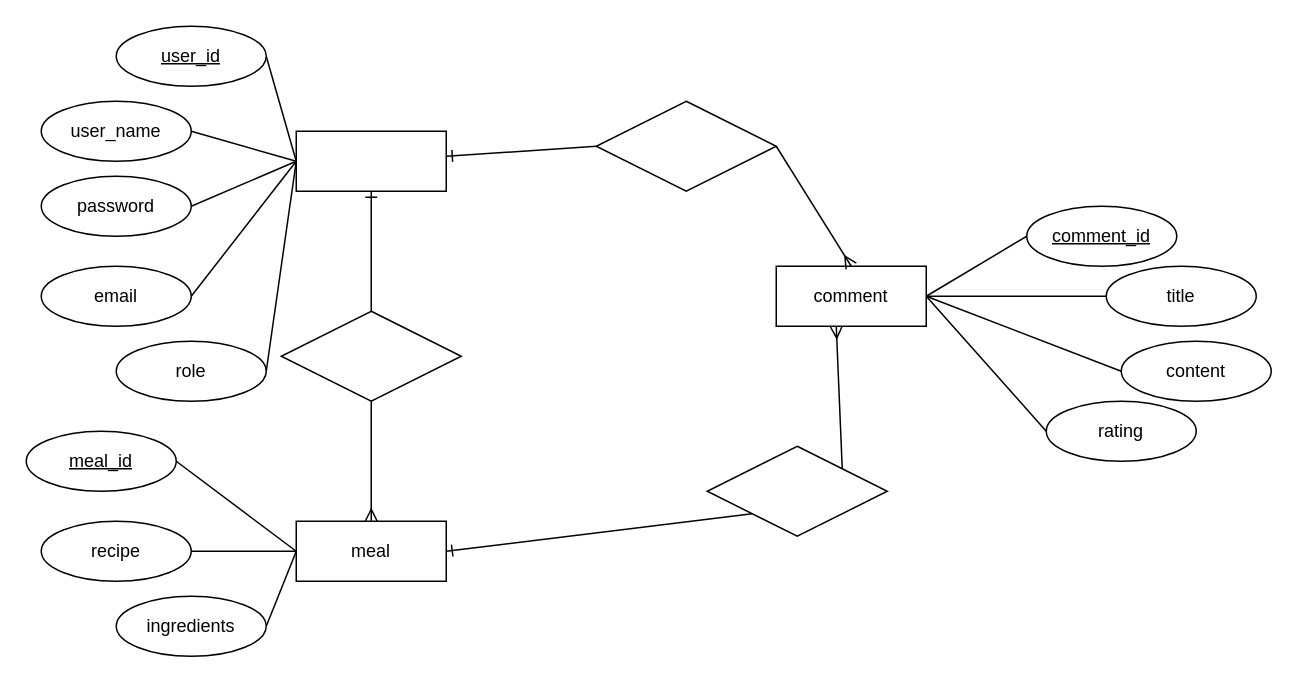
Image size: 1298x683. Some labels were removed from this diagram. The centre of each missing label's shape, as x and y in pixels:
"creates" goes at point 370,355.
"has" goes at point 796,490.
"user" goes at point 370,160.
"writes" goes at point 685,145.
